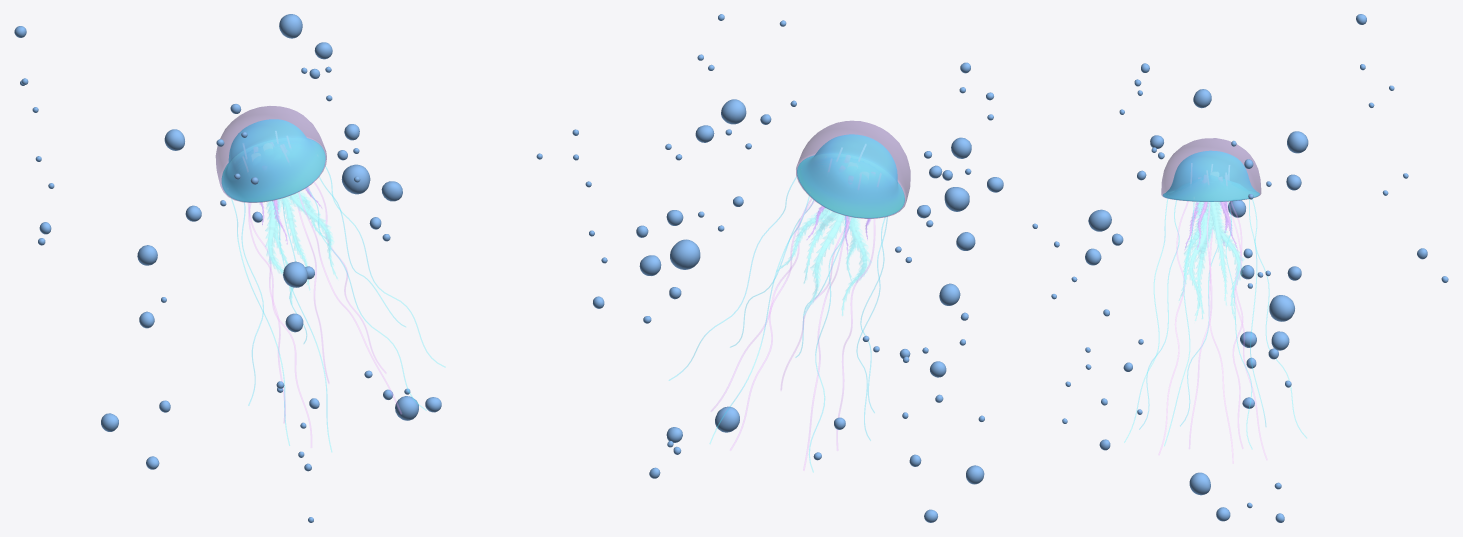
Rendered from jellyfish_w_bubbles.fbx.
The picture shows the model from 3 angles, left to right: view 1: azimuth 30°, elevation 25°; view 2: azimuth 150°, elevation 25°; view 3: azimuth 270°, elevation 25°; orthographic projection. The views are drawn at different scales.
Visible parts, largest first — view 1: Cube.002, Cube, BézierCurve.004, BézierCurve.002; view 2: Cube.002, Cube, BézierCurve.001, BézierCurve.002, Sphere.006, Sphere.041, Sphere, Sphere.002, BézierCurve.013, BézierCurve.004, BézierCurve.006, BézierCurve.003; view 3: Cube.002, Cube, BézierCurve.004, BézierCurve.001, BézierCurve.003, Sphere.006, BézierCurve.002.
Boxes of the visible parts, x1=… form: Cube.002: x1=215, y1=106, x2=326, y2=202; Cube: x1=221, y1=119, x2=325, y2=202; BézierCurve.004: x1=289, y1=193, x2=337, y2=278; BézierCurve.002: x1=265, y1=200, x2=292, y2=304; Cube.002: x1=796, y1=120, x2=910, y2=218; Cube: x1=797, y1=134, x2=904, y2=218; BézierCurve.001: x1=803, y1=213, x2=844, y2=315; BézierCurve.002: x1=841, y1=217, x2=871, y2=315; Sphere.006: x1=670, y1=239, x2=700, y2=269; Sphere.041: x1=715, y1=406, x2=739, y2=432; Sphere: x1=944, y1=187, x2=969, y2=211; Sphere.002: x1=721, y1=99, x2=746, y2=124; BézierCurve.013: x1=730, y1=200, x2=814, y2=450; BézierCurve.004: x1=804, y1=210, x2=836, y2=283; BézierCurve.006: x1=803, y1=217, x2=851, y2=470; BézierCurve.003: x1=776, y1=208, x2=829, y2=271; Cube.002: x1=1161, y1=138, x2=1261, y2=201; Cube: x1=1163, y1=150, x2=1259, y2=201; BézierCurve.004: x1=1187, y1=201, x2=1210, y2=320; BézierCurve.001: x1=1211, y1=202, x2=1244, y2=319; BézierCurve.003: x1=1207, y1=202, x2=1227, y2=305; Sphere.006: x1=1269, y1=295, x2=1294, y2=321; BézierCurve.002: x1=1196, y1=203, x2=1214, y2=318.
Bounding box in the file's own units: 855 × 770 × 786.
